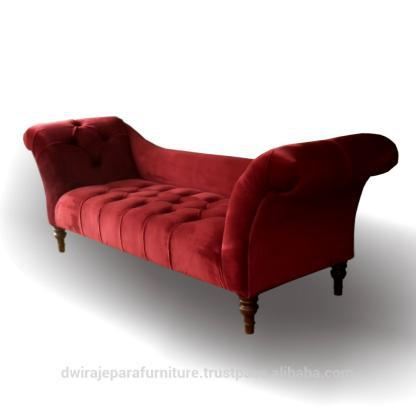sova: (22, 107, 395, 319)
